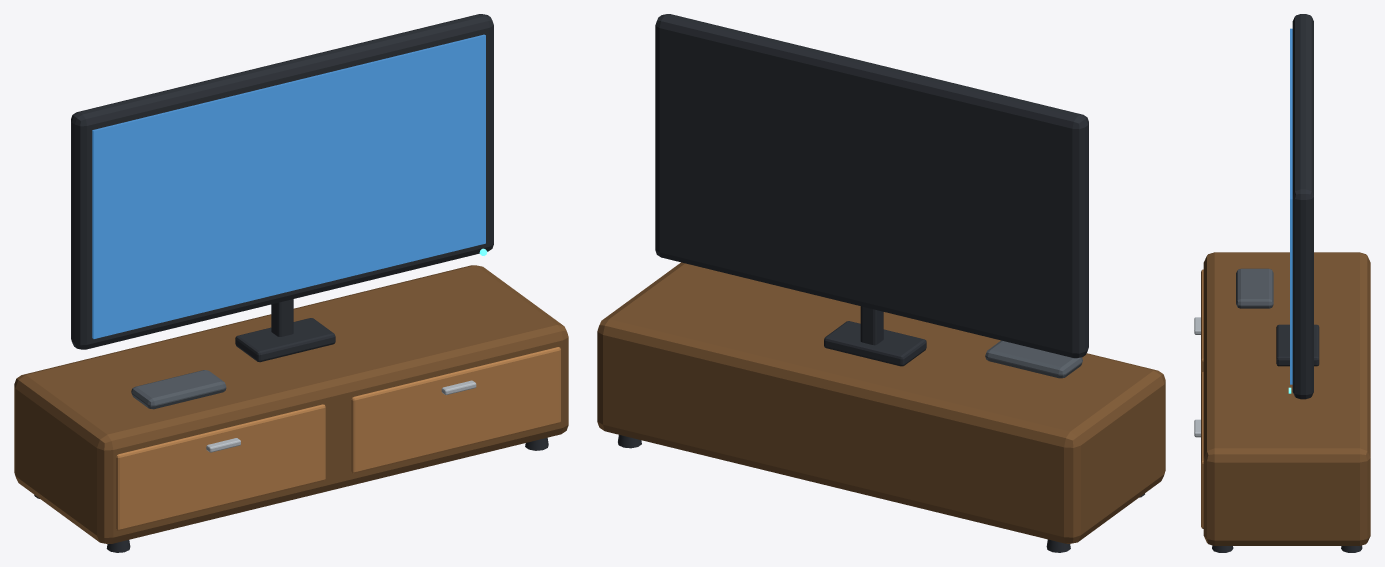
The picture shows the model from 3 angles, left to right: view 1: azimuth 30°, elevation 25°; view 2: azimuth 150°, elevation 25°; view 3: azimuth 270°, elevation 25°; orthographic projection. The views are drawn at different scales.
Visible parts, largest first — view 1: tv; view 2: tv; view 3: tv.
Boxes of the visible parts, left/top/right/bottom form: tv: left=14, top=14, right=568, bottom=552; tv: left=597, top=14, right=1165, bottom=552; tv: left=1194, top=14, right=1370, bottom=552.
Bounding box in the file's own units: 1.8 × 1.46 × 0.655.
